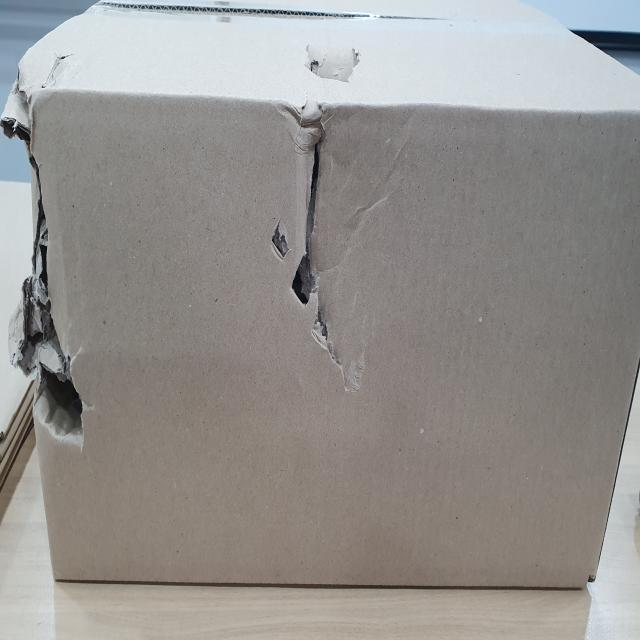hole: (13, 89, 95, 444), (277, 107, 349, 335)
